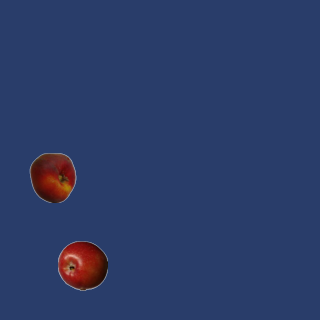Apple Braeburn: (57, 240, 107, 290)
Nectarine Flat: (27, 152, 77, 202)
